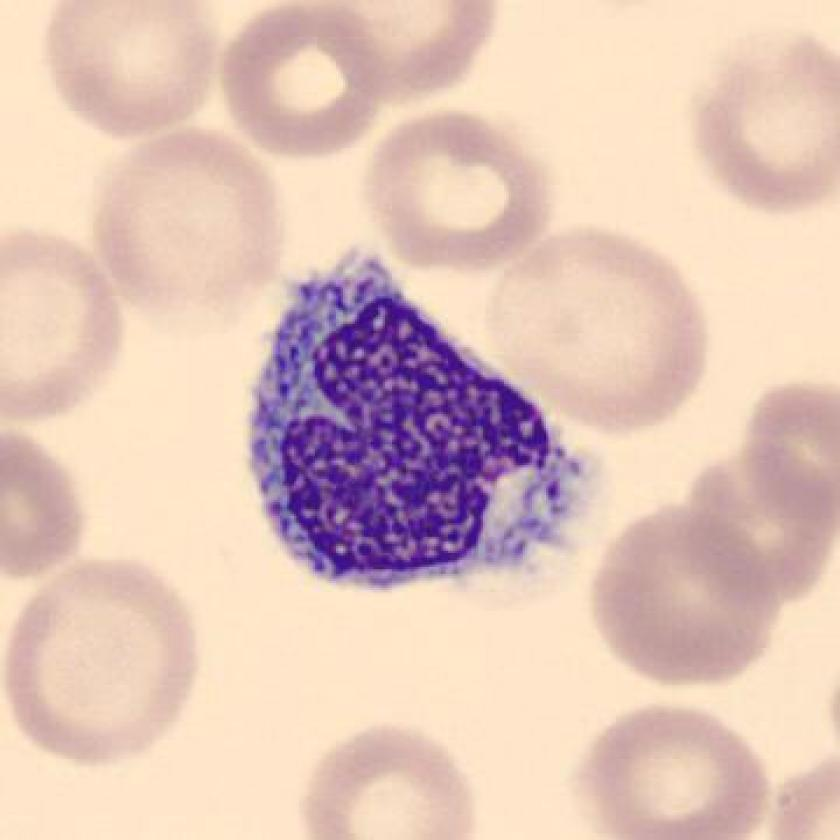monocyte: (223, 235, 612, 626)
